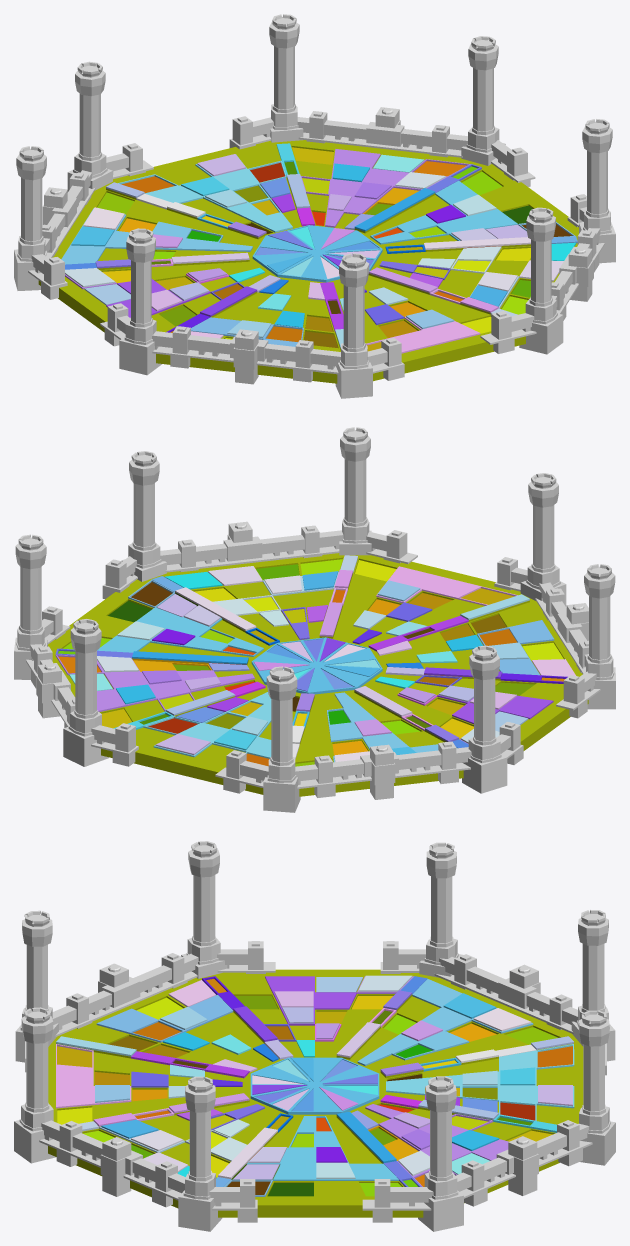
File: arena.fbx
3 views of the same model, one above another, from view 1: azimuth 30°, elevation 25°; view 2: azimuth 150°, elevation 25°; view 3: azimuth 270°, elevation 25° (orthographic). The views are drawn at different scales.
Visible parts, largest first — view 1: Arena.001, Arena_Pillar.007, Arena_Pillar.008, Arena_Pillar.006, Arena_Pillar.001, upper_Railling.005, Arena_Pillar.005, Arena_Pillar.002, Arena_Pillar.004, Arena_Pillar.003, upper_Railling.006, Lower_Railing.005 (+11 smaller); view 2: Arena.001, Arena_Pillar.001, Arena_Pillar.002, Arena_Pillar.003, Arena_Pillar.008, Arena_Pillar.004, Arena_Pillar.006, Arena_Pillar.005, Arena_Pillar.007, upper_Railling.008, upper_Railling.007, Lower_Railing.008 (+11 smaller); view 3: Arena.001, Arena_Pillar.004, Arena_Pillar.005, Arena_Pillar.006, Arena_Pillar.003, Arena_Pillar.008, Arena_Pillar.001, upper_Railling.007, Arena_Pillar.002, upper_Railling.006, Arena_Pillar.007, upper_Railling.005 (+9 smaller).
Part boxes in pixels (x1=…): Arena.001: x1=38, y1=140, x2=578, y2=383; Arena_Pillar.007: x1=335, y1=253, x2=372, y2=398; Arena_Pillar.008: x1=119, y1=228, x2=161, y2=375; Arena_Pillar.006: x1=519, y1=207, x2=563, y2=354; Arena_Pillar.001: x1=14, y1=146, x2=48, y2=290; upper_Railling.005: x1=152, y1=329, x2=340, y2=384; Arena_Pillar.005: x1=579, y1=119, x2=615, y2=263; Arena_Pillar.002: x1=67, y1=61, x2=112, y2=192; Arena_Pillar.004: x1=461, y1=36, x2=505, y2=165; Arena_Pillar.003: x1=269, y1=14, x2=303, y2=142; upper_Railling.006: x1=297, y1=107, x2=467, y2=150; Lower_Railing.005: x1=152, y1=326, x2=338, y2=382; Arena.001: x1=48, y1=553, x2=588, y2=796; Arena_Pillar.001: x1=462, y1=645, x2=507, y2=793; Arena_Pillar.002: x1=263, y1=666, x2=300, y2=812; Arena_Pillar.003: x1=63, y1=619, x2=108, y2=766; Arena_Pillar.008: x1=583, y1=564, x2=615, y2=709; Arena_Pillar.004: x1=14, y1=534, x2=47, y2=679; Arena_Pillar.006: x1=339, y1=427, x2=371, y2=555; Arena_Pillar.005: x1=121, y1=451, x2=166, y2=581; Arena_Pillar.007: x1=520, y1=473, x2=566, y2=606; upper_Railling.008: x1=295, y1=744, x2=471, y2=799; upper_Railling.007: x1=160, y1=521, x2=343, y2=564; Lower_Railing.008: x1=297, y1=741, x2=470, y2=797; Arena.001: x1=48, y1=969, x2=583, y2=1217; Arena_Pillar.004: x1=418, y1=1076, x2=463, y2=1231; Arena_Pillar.005: x1=178, y1=1076, x2=222, y2=1231; Arena_Pillar.006: x1=14, y1=1007, x2=56, y2=1163; Arena_Pillar.003: x1=578, y1=1010, x2=615, y2=1165; Arena_Pillar.008: x1=181, y1=841, x2=227, y2=978; Arena_Pillar.001: x1=419, y1=842, x2=462, y2=977; upper_Railling.007: x1=41, y1=1120, x2=185, y2=1196; Arena_Pillar.002: x1=571, y1=909, x2=615, y2=1061; upper_Railling.006: x1=455, y1=1123, x2=589, y2=1195; Arena_Pillar.007: x1=15, y1=910, x2=58, y2=1062; upper_Railling.005: x1=52, y1=953, x2=198, y2=1026.
Size of the model in its own units: 5829 by 1503 by 5824.
